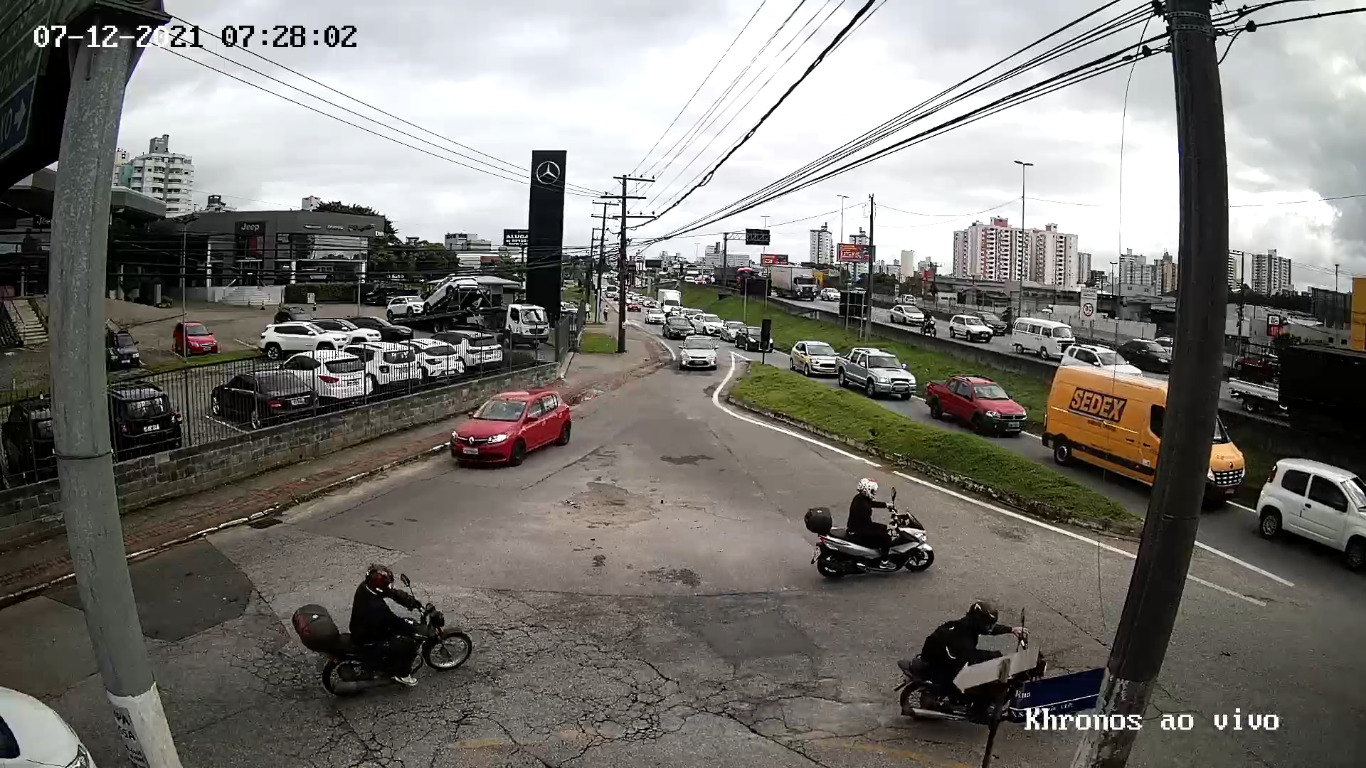car: (1256, 457, 1366, 570), (450, 389, 572, 468)
